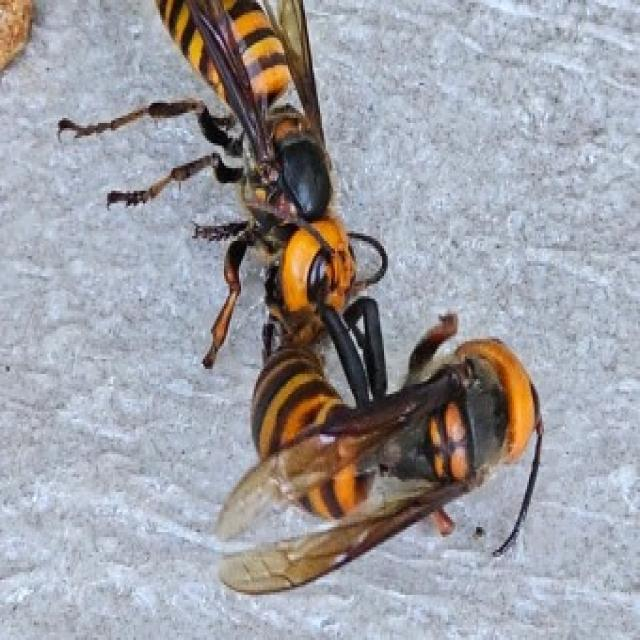Wasp: (56, 0, 363, 327), (243, 333, 541, 587)
